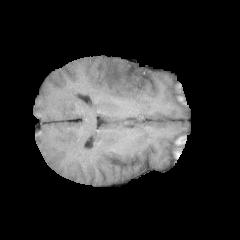glioma: (100, 60, 147, 99)
